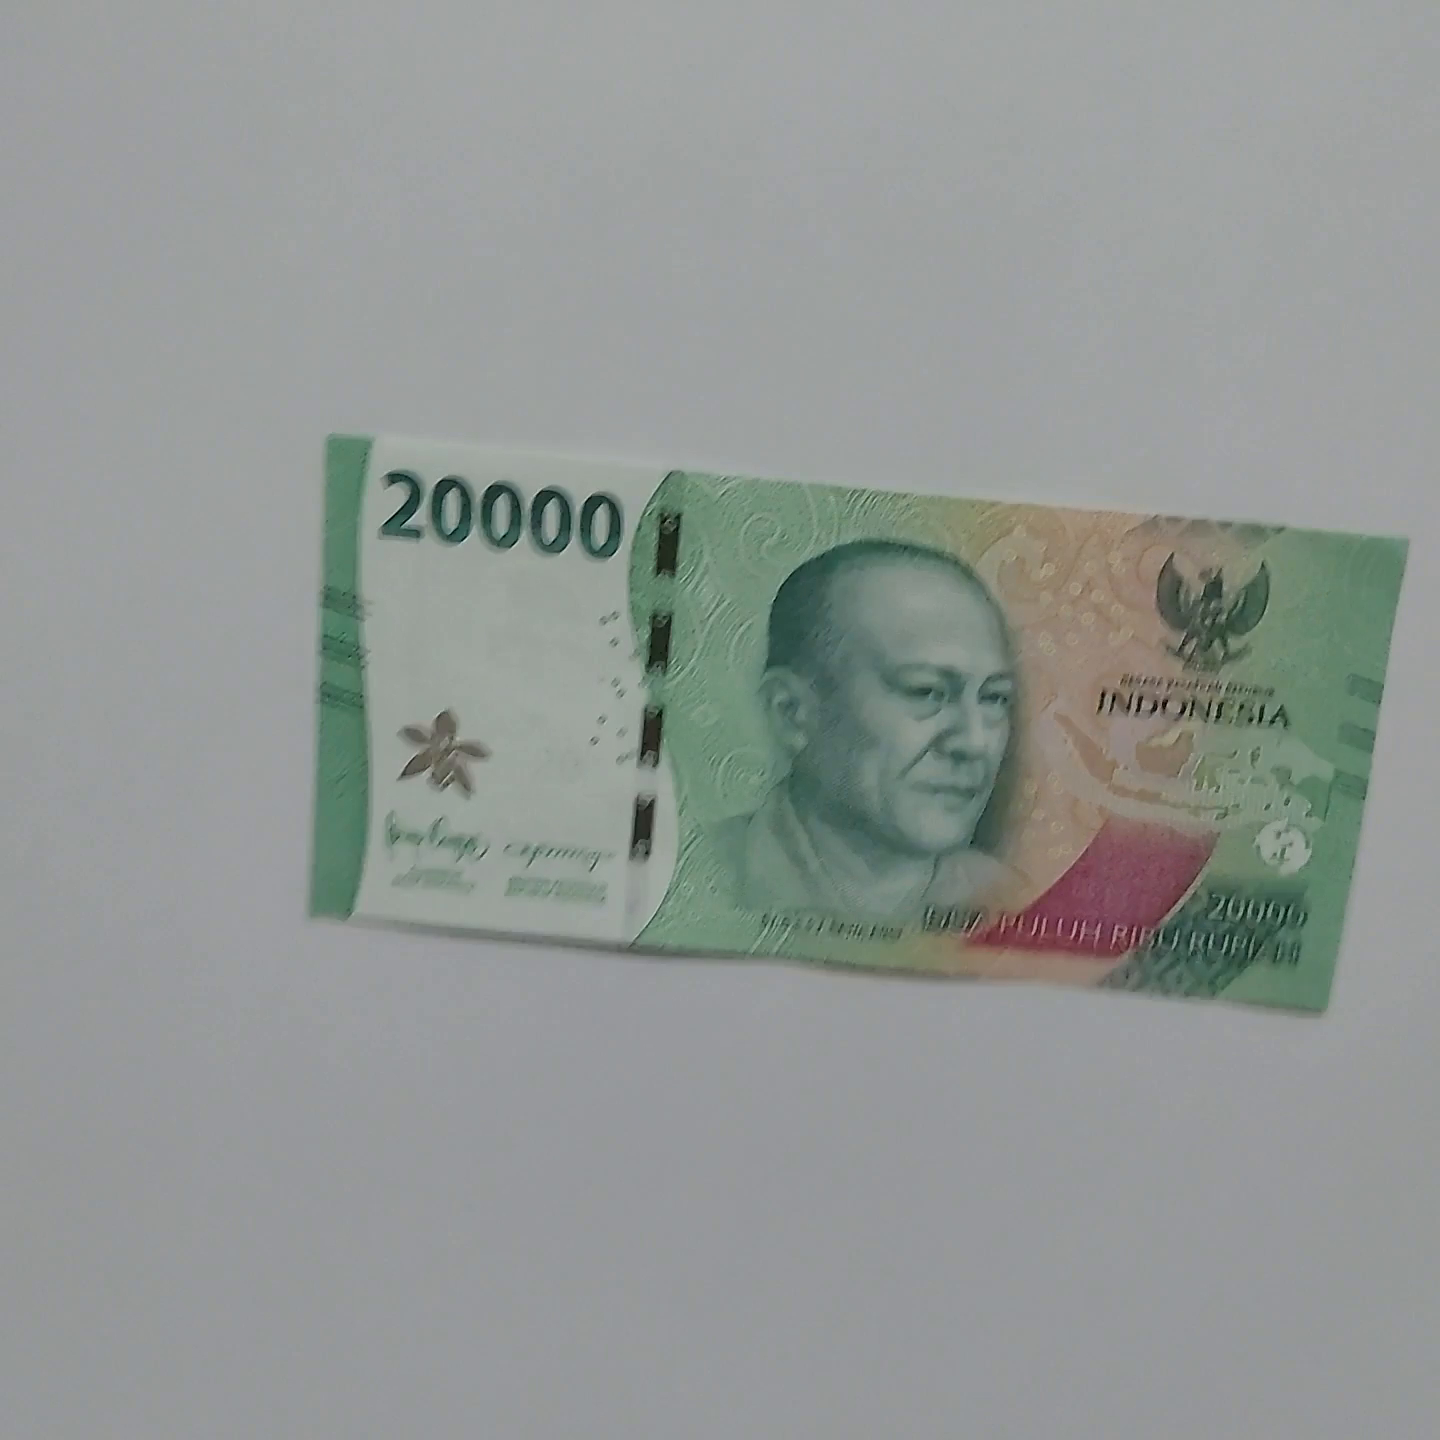20k: (293, 394, 1403, 1027)
